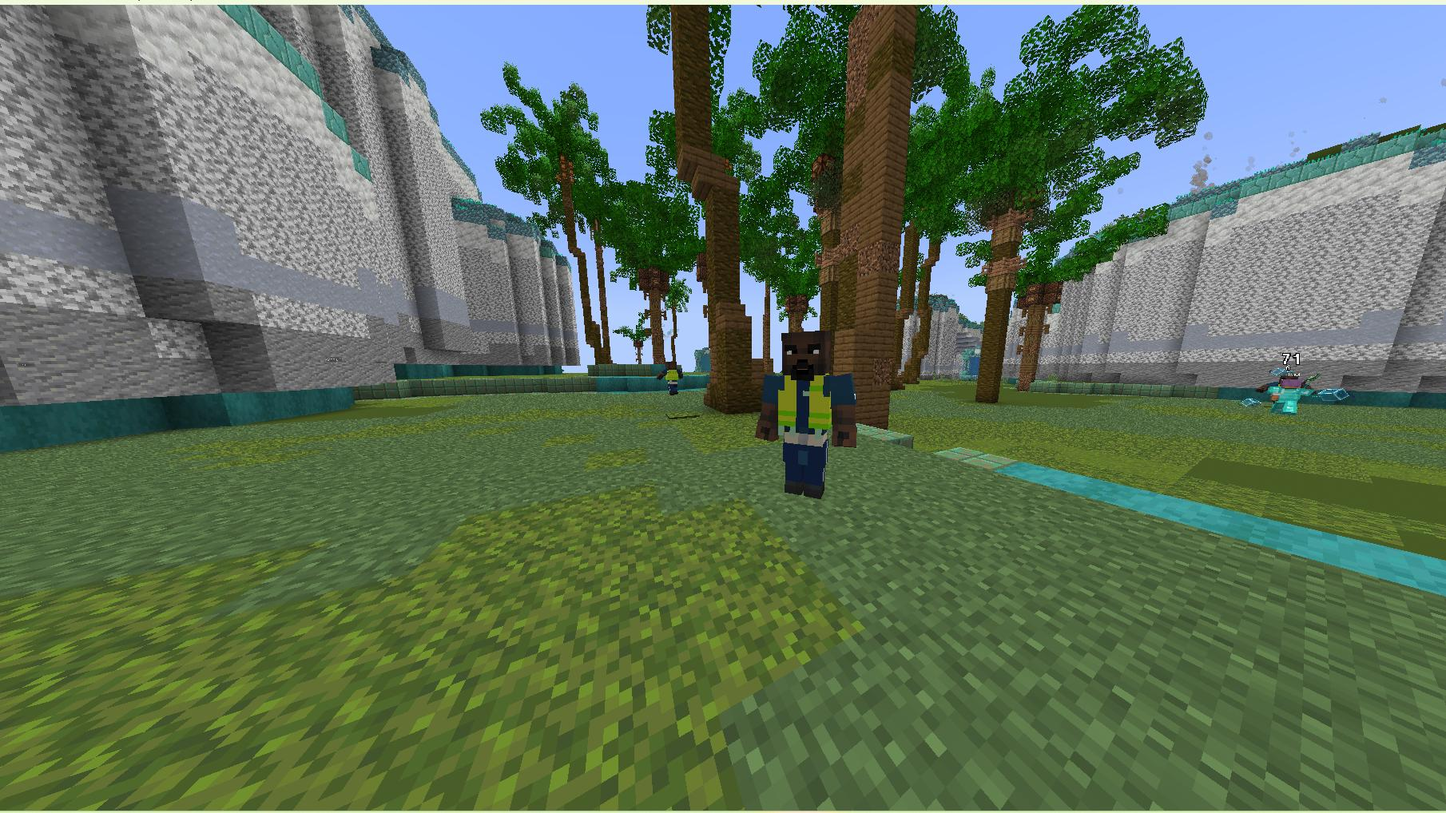Guardian: (756, 331, 856, 498), (654, 361, 689, 395)
